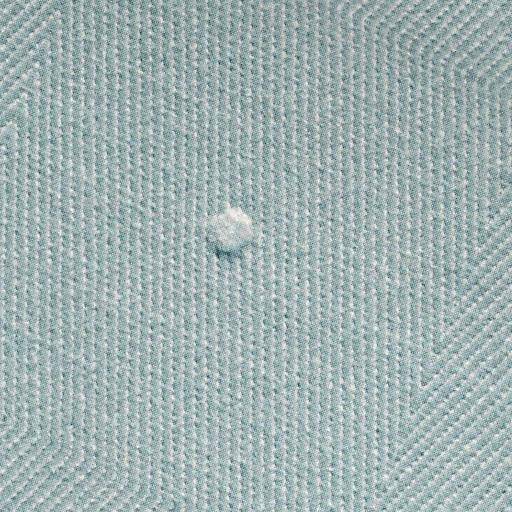knot: (191, 201, 264, 263)
